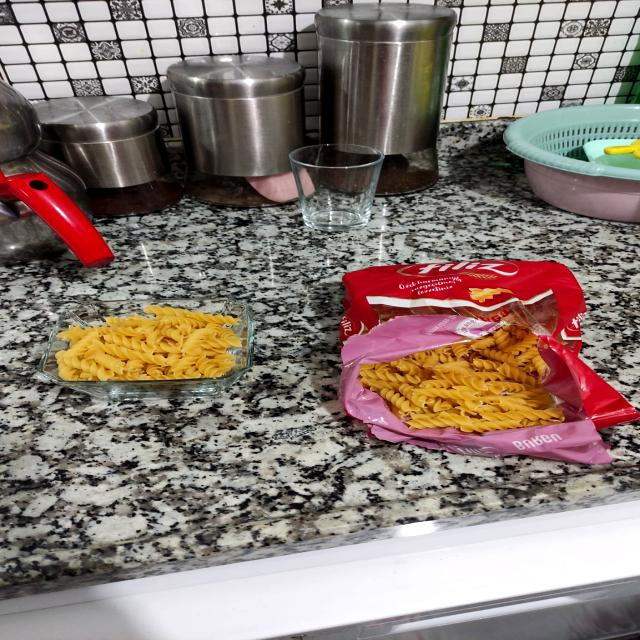fusilli pasta: (335, 274, 596, 444), (35, 296, 259, 387)
